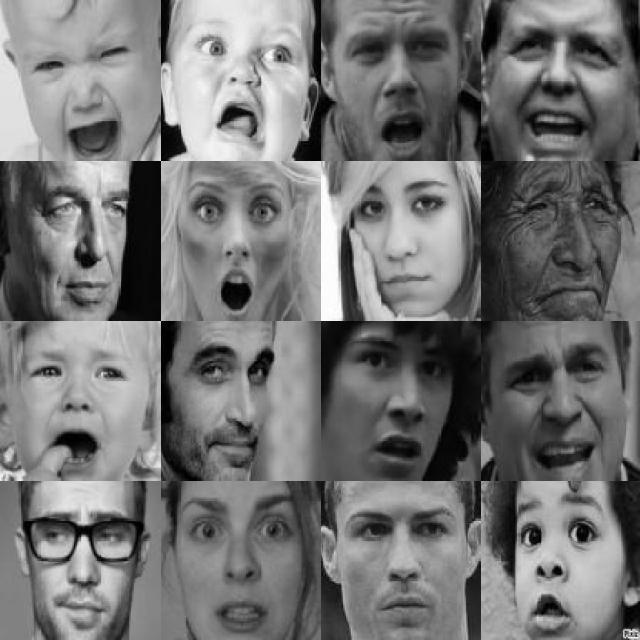angry: (342, 496, 464, 630)
fear: (175, 486, 301, 640), (338, 326, 458, 470), (181, 16, 304, 153), (343, 13, 460, 156), (181, 168, 290, 317), (512, 487, 606, 640)
happy: (498, 11, 624, 157)
neutral: (182, 332, 279, 478)
sad: (20, 13, 149, 156), (498, 332, 620, 478), (23, 497, 146, 640), (508, 168, 622, 319), (346, 171, 466, 307), (19, 333, 135, 473), (28, 169, 134, 318)
